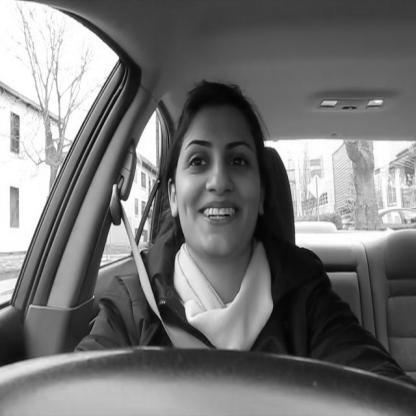seatbelt: (108, 73, 278, 349)
